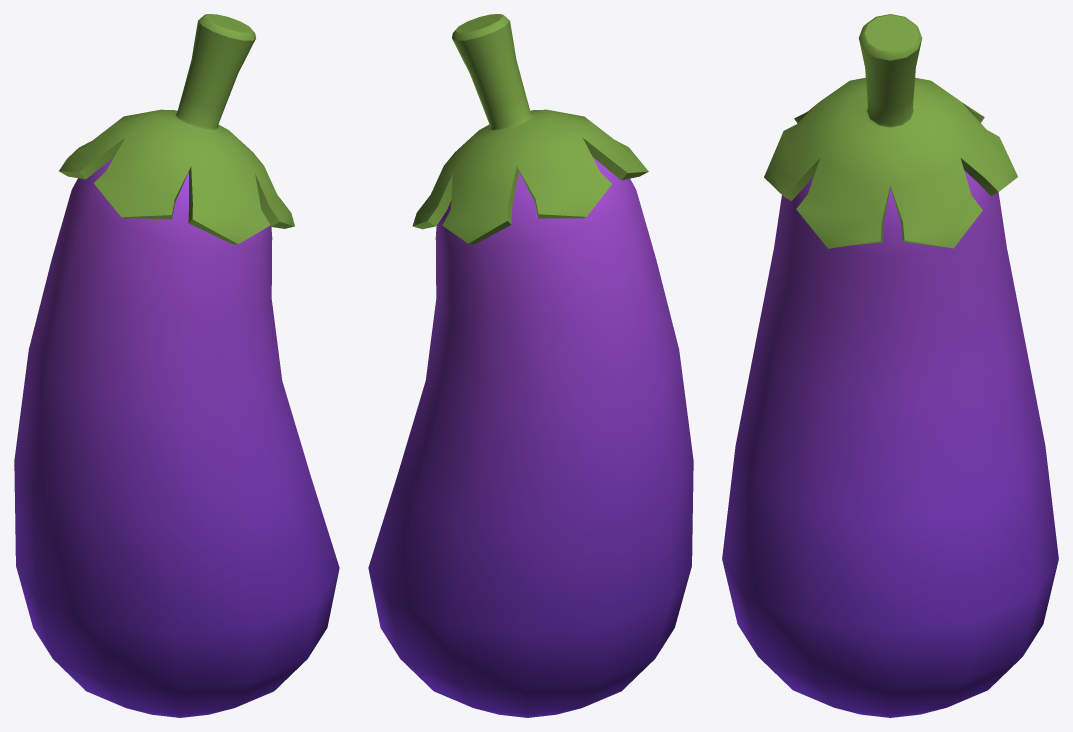
File: Eggplant.fbx
3 views of the same model, side by side, from view 1: azimuth 30°, elevation 25°; view 2: azimuth 150°, elevation 25°; view 3: azimuth 270°, elevation 25° (orthographic). The views are drawn at different scales.
Visible parts, largest first — view 1: Base.004, Top.001; view 2: Base.004, Top.001; view 3: Base.004, Top.001.
Part boxes in pixels (bbox=[...]): Base.004: bbox=[14, 157, 339, 717]; Top.001: bbox=[59, 14, 294, 244]; Base.004: bbox=[368, 157, 693, 717]; Top.001: bbox=[412, 14, 648, 244]; Base.004: bbox=[722, 170, 1058, 717]; Top.001: bbox=[764, 14, 1017, 248].
Size of the model in its own units: 66.17 by 150 by 65.53.
